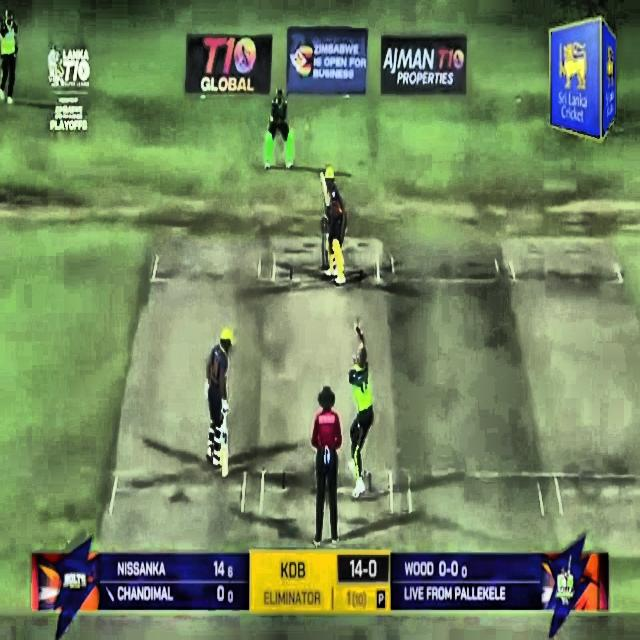Left-stump: (322, 222, 324, 268)
Middle-stump: (326, 222, 328, 268)
